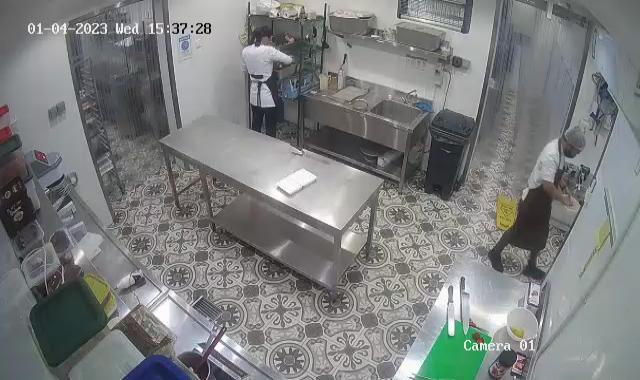hairnet: (561, 124, 586, 158)
no_hairnet: (258, 23, 272, 42)
